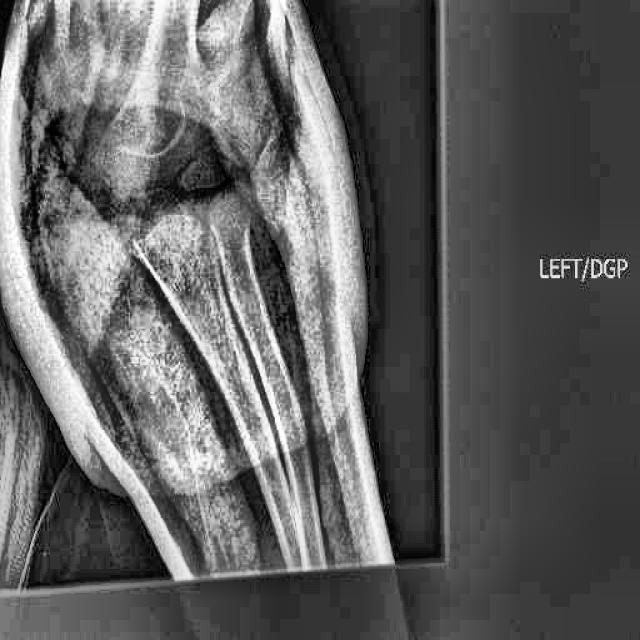elbow positive: (146, 75, 268, 217)
